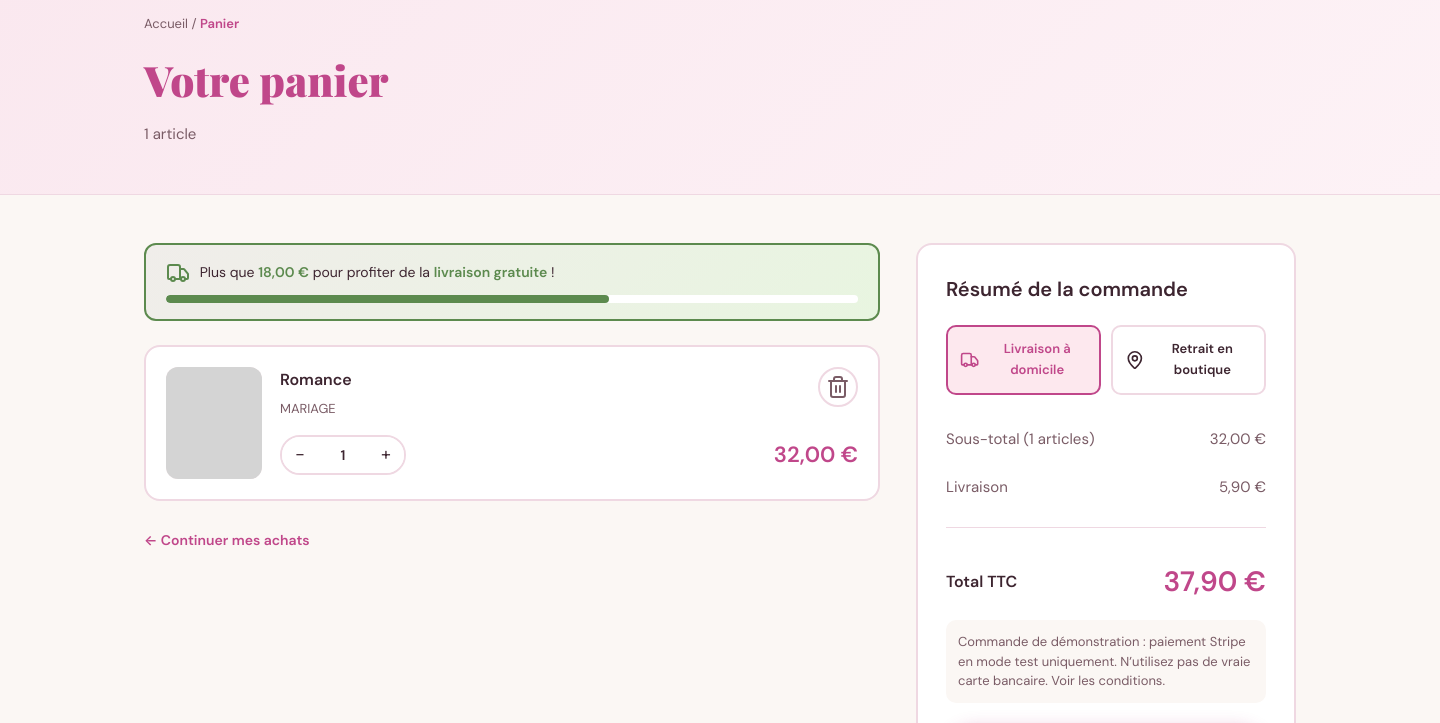
Test: Panier : transmission de commande et refus › refuse un retrait sans magasin sélectionné
Click the button "Retrait en boutique". click: (1188, 360)
box: 1111,325 -> 1266,395
(page scrolled)
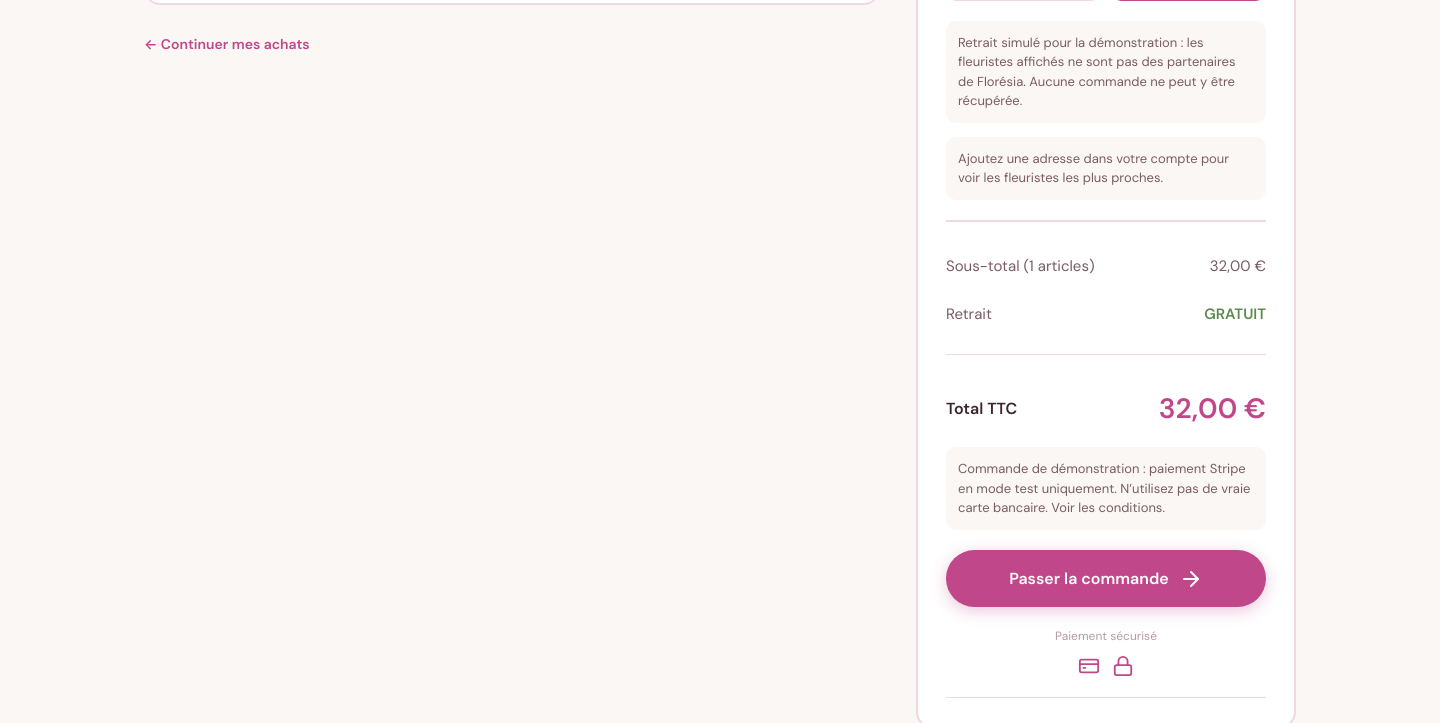
Click the button "Passer la commande". click: (1106, 579)
box: 946,550 -> 1266,608
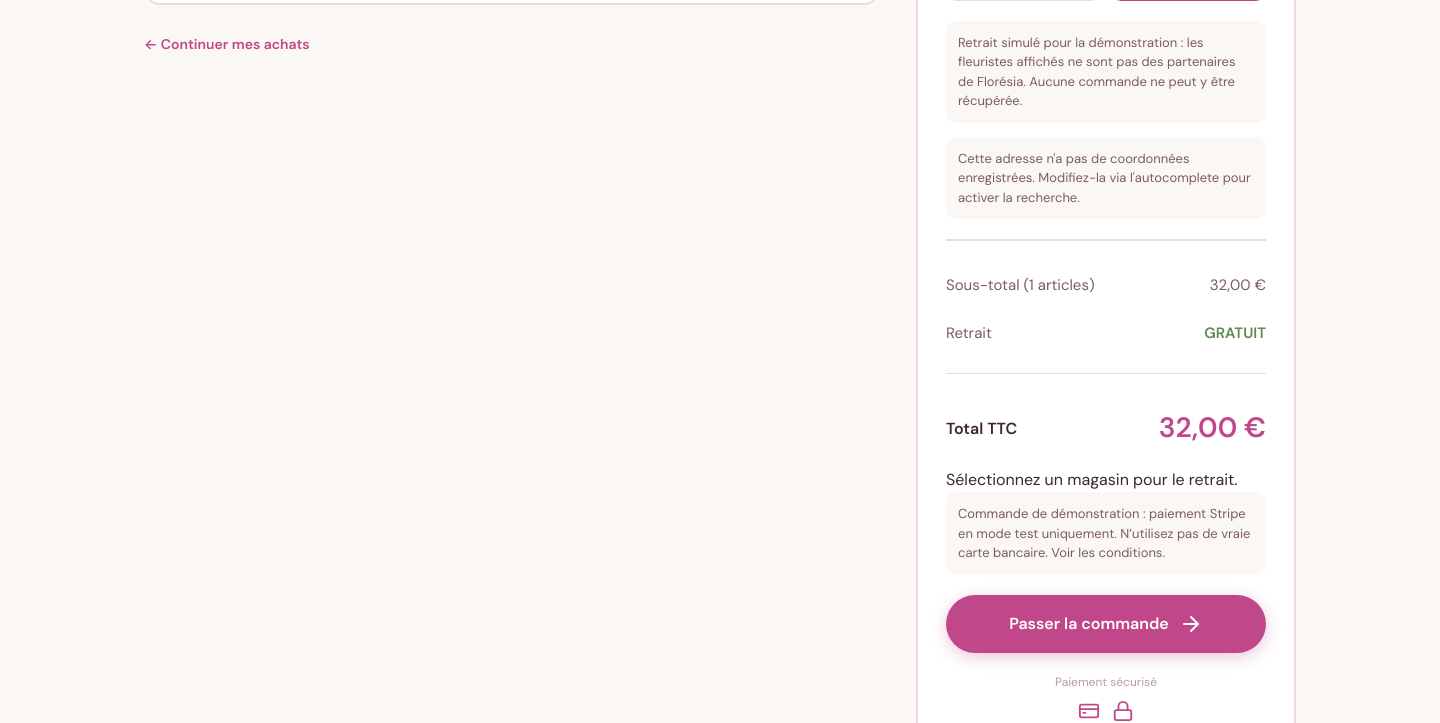
Check: the text "Sélectionnez un magasin pour le retrait." is shown, box 946,467 -> 1266,492
